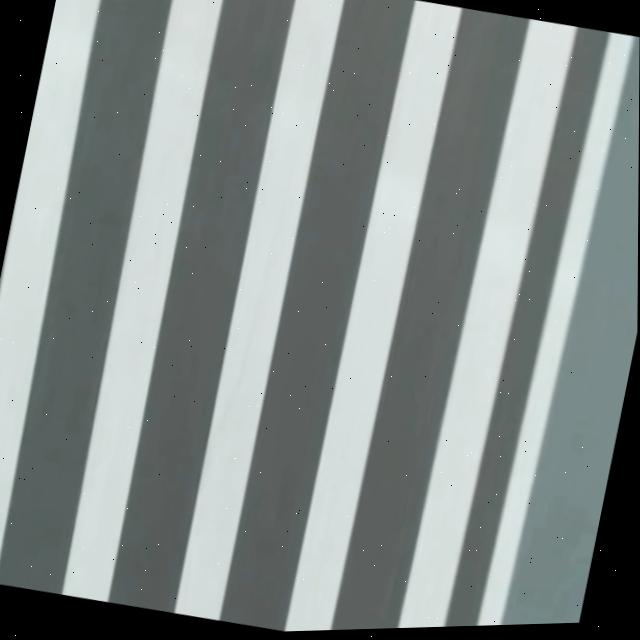left: (478, 33, 635, 626)
